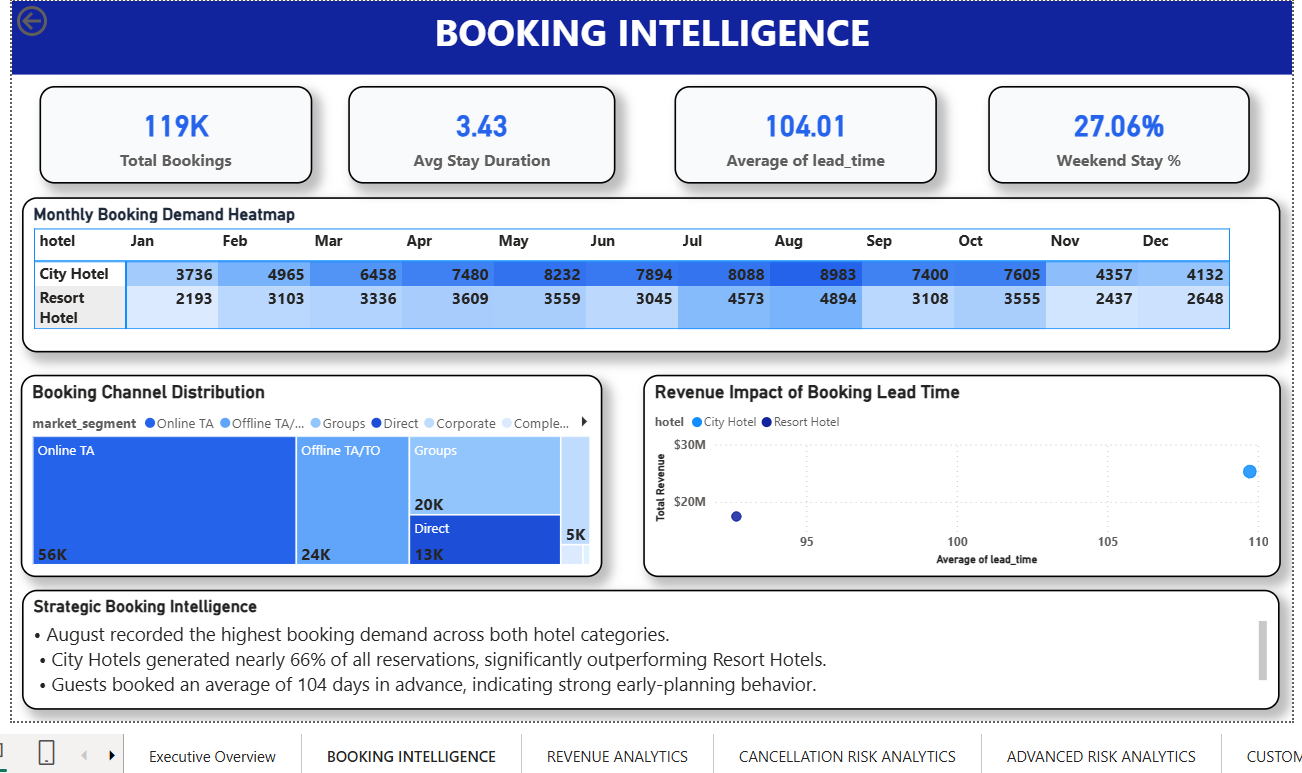

What the dashboard file says about the page in this screenshot:
{"tool":"powerbi","page":{"name":"BOOKING INTELLIGENCE","canvas":[1280,720],"ordinal":1},"visuals":[{"type":"textbox","box":[0,0,1280,73.8],"z":0},{"type":"card","fields":{"Values":["final_hotel_analytics_dataset.Total Bookings"]},"box":[27.5,85,272.5,97.5],"z":1000},{"type":"actionButton","box":[0,0,100,40],"z":2000},{"type":"pivotTable","title":"Monthly Booking Demand Heatmap","fields":{"Rows":["final_hotel_analytics_dataset.hotel"],"Values":["final_hotel_analytics_dataset.Total Bookings"],"Columns":["final_hotel_analytics_dataset.Month Name"]},"box":[10,196.2,1258.8,155],"z":3000},{"type":"card","fields":{"Values":["final_hotel_analytics_dataset.Weekend Stay %"]},"box":[976.2,85,261.2,97.5],"z":4000},{"type":"card","fields":{"Values":["Avg(final_hotel_analytics_dataset.lead_time)"]},"box":[662.5,85,262.5,97.5],"z":5000},{"type":"card","fields":{"Values":["final_hotel_analytics_dataset.Avg Stay Duration"]},"box":[336.2,85,267.5,97.5],"z":6000},{"type":"treemap","title":"Booking Channel Distribution","fields":{"Group":["final_hotel_analytics_dataset.market_segment"],"Values":["final_hotel_analytics_dataset.Total Bookings"]},"box":[8.8,373.8,581.2,202.5],"z":6001},{"type":"scatterChart","title":"Revenue Impact of Booking Lead Time","fields":{"X":["Avg(final_hotel_analytics_dataset.lead_time)"],"Y":["final_hotel_analytics_dataset.Total Revenue"],"Series":["final_hotel_analytics_dataset.hotel"],"Size":["final_hotel_analytics_dataset.Total Bookings"]},"box":[631.2,373.8,637.5,202.5],"z":6002},{"type":"textbox","title":"Strategic Booking Intelligence","box":[10,588.8,1257.5,120],"z":6003}]}

Visuals, with their boxes in screenshot pixels (x1, y1, x2, y2):
textbox: BBox(7, 0, 1291, 71)
card - final_hotel_analytics_dataset.Total Bookings: BBox(34, 82, 308, 180)
actionButton: BBox(7, 0, 107, 37)
"Monthly Booking Demand Heatmap" pivotTable: BBox(17, 193, 1280, 349)
card - final_hotel_analytics_dataset.Weekend Stay %: BBox(986, 82, 1248, 180)
card - Avg(final_hotel_analytics_dataset.lead_time): BBox(671, 82, 935, 180)
card - final_hotel_analytics_dataset.Avg Stay Duration: BBox(344, 82, 612, 180)
"Booking Channel Distribution" treemap: BBox(16, 372, 599, 575)
"Revenue Impact of Booking Lead Time" scatterChart: BBox(640, 372, 1279, 575)
"Strategic Booking Intelligence" textbox: BBox(17, 587, 1278, 708)
